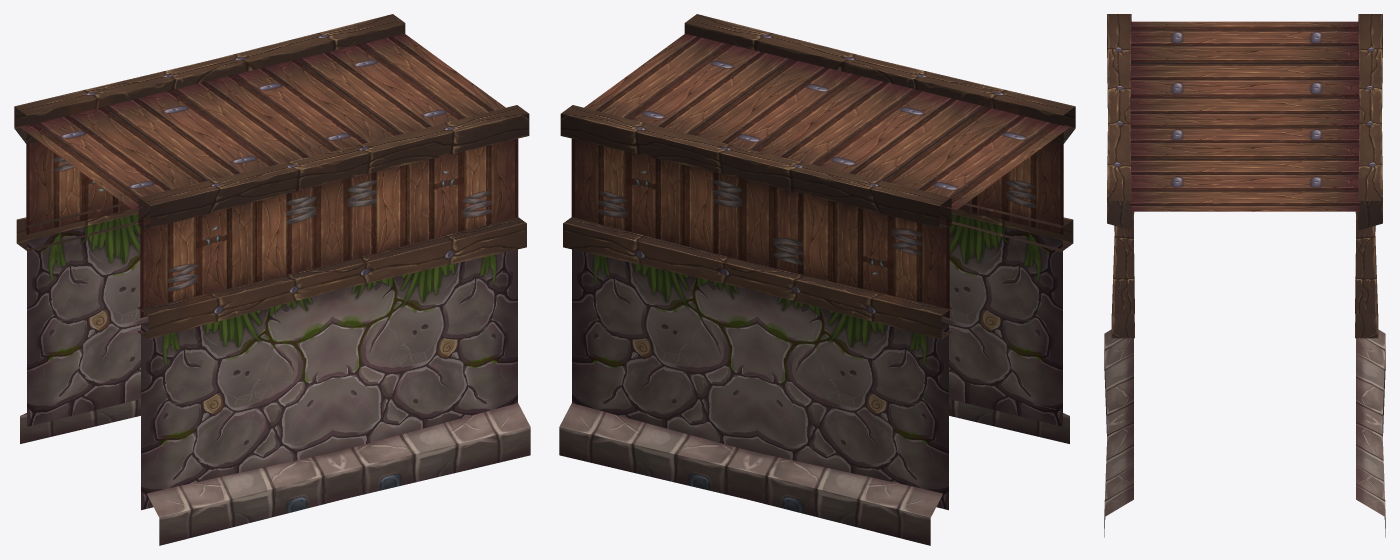
File: big_wall_tile_01.fbx
3 renders of one model, left to right at view 1: azimuth 30°, elevation 25°; view 2: azimuth 150°, elevation 25°; view 3: azimuth 270°, elevation 25°, orthographic.
Visible parts, largest first — view 1: big_wall_tile_01; view 2: big_wall_tile_01; view 3: big_wall_tile_01.
Part boxes in pixels (box(x1,y1,x2,y2)): big_wall_tile_01: box(14, 14, 530, 545); big_wall_tile_01: box(559, 14, 1075, 545); big_wall_tile_01: box(1104, 14, 1385, 537).
Bounding box in the file's own units: 11.14 × 9.41 × 6.97.
